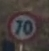limite 70: (7, 10, 40, 44)
